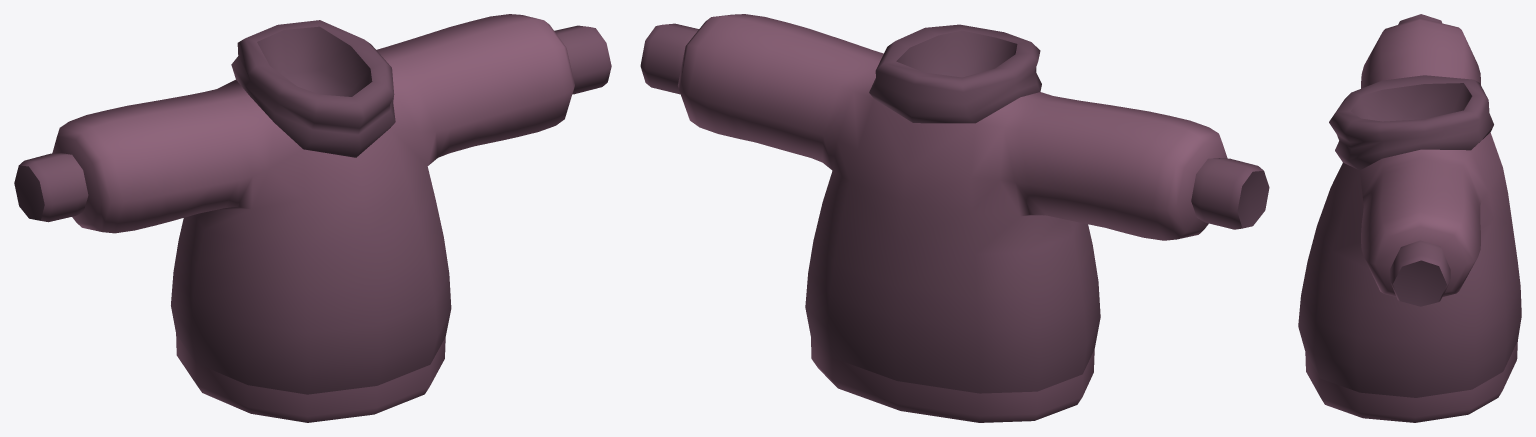
The model's file is Top_22.fbx.
The picture shows the model from 3 angles, left to right: view 1: azimuth 30°, elevation 25°; view 2: azimuth 150°, elevation 25°; view 3: azimuth 270°, elevation 25°; orthographic projection. The views are drawn at different scales.
Parts seen in each view (by area): view 1: Top_22; view 2: Top_22; view 3: Top_22.
Boxes of the visible parts, bbox=[...] form: Top_22: bbox=[14, 14, 611, 422]; Top_22: bbox=[640, 14, 1269, 422]; Top_22: bbox=[1298, 14, 1521, 422].
Bounding box in the file's own units: 95.16 × 51.13 × 36.49.
